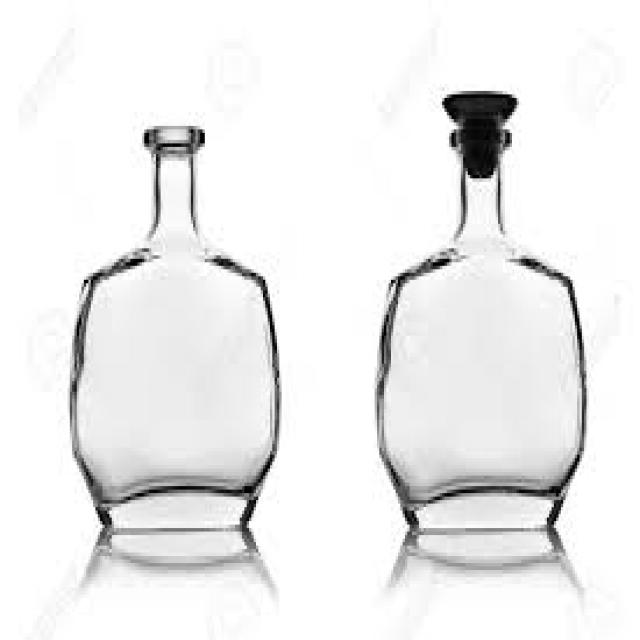Glass-Non-Biodegradable but Recyclable-: (373, 95, 586, 534), (68, 121, 283, 536)
